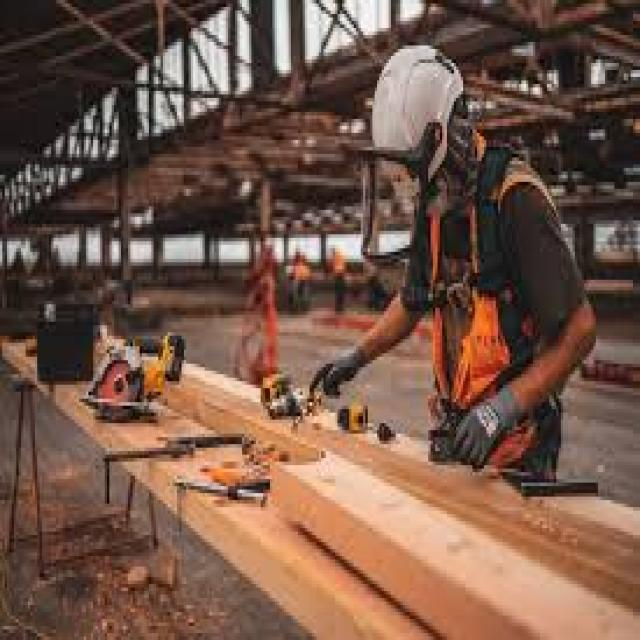Reflective-Jacket: (398, 147, 600, 462)
Safety-Helmet: (363, 38, 472, 182)
